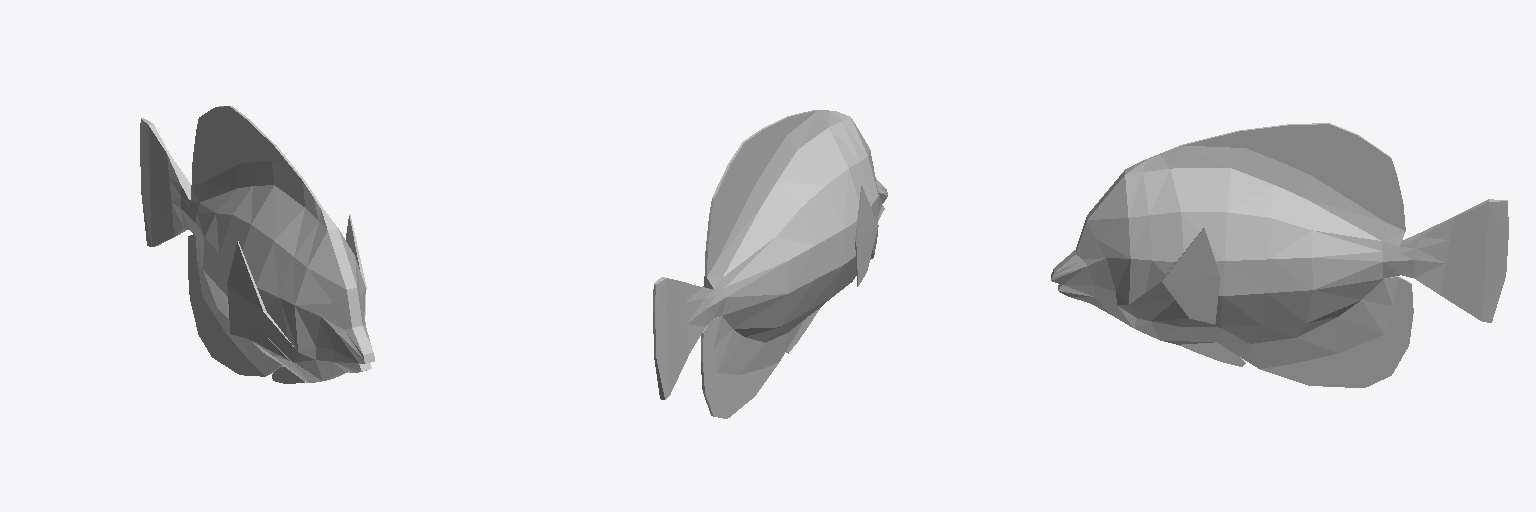
File: TropicalFish01.obj
3 renders of one model, left to right at view 1: azimuth 30°, elevation 25°; view 2: azimuth 150°, elevation 25°; view 3: azimuth 270°, elevation 25°, orthographic.
Parts seen in each view (by area): view 1: TropicalFish01; view 2: TropicalFish01; view 3: TropicalFish01.
Boxes of the visible parts, box(x1,y1,x2,y2) form: TropicalFish01: box(140, 106, 374, 383); TropicalFish01: box(653, 110, 887, 418); TropicalFish01: box(1051, 123, 1508, 387).
Bounding box in the file's own units: 134 × 289 × 455.